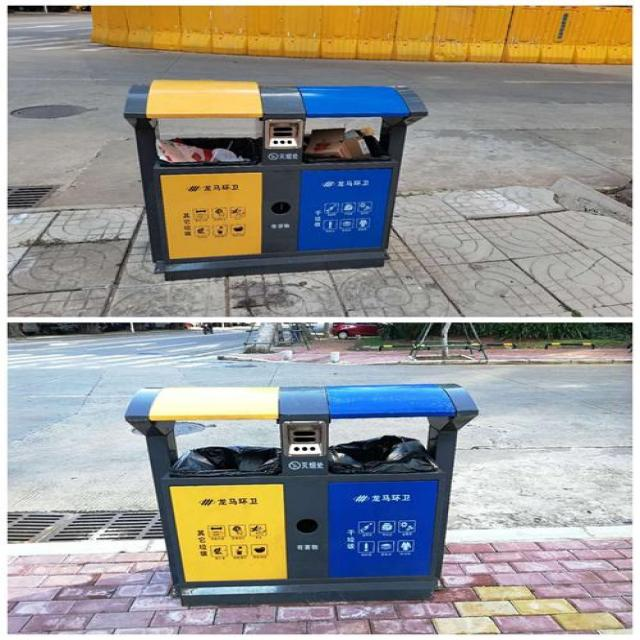garbage_bin: (124, 384, 478, 607)
overflow: (123, 78, 426, 281)
